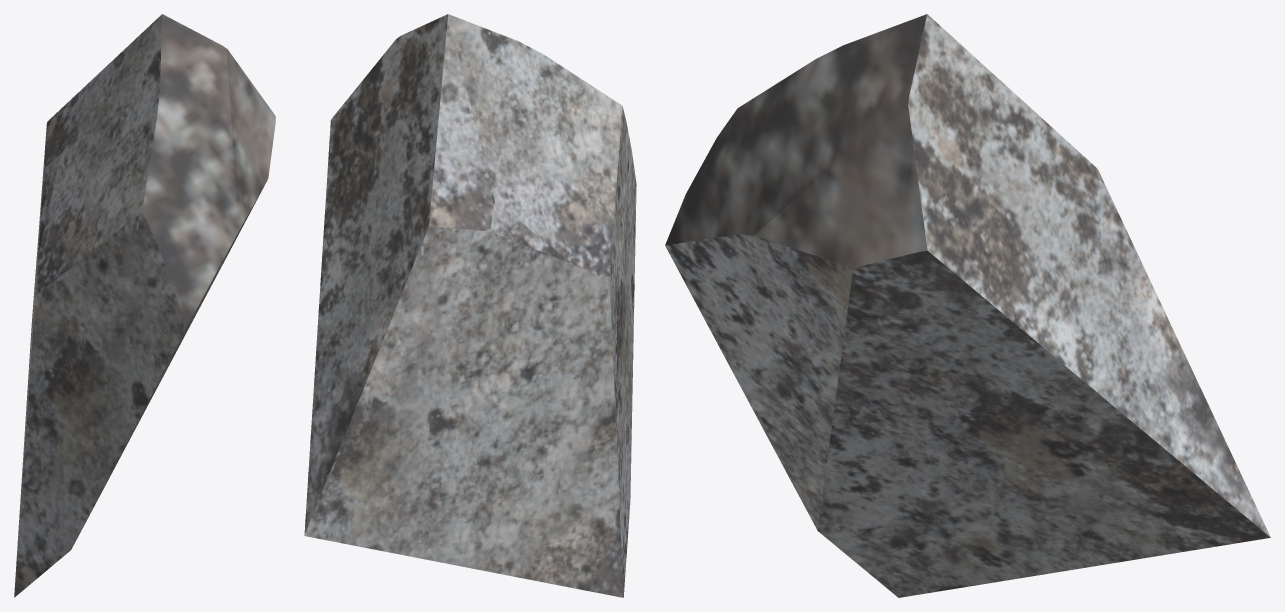
File: Asteroid_Medium_001_02_002_03_001.fbx
The picture shows the model from 3 angles, left to right: view 1: azimuth 30°, elevation 25°; view 2: azimuth 150°, elevation 25°; view 3: azimuth 270°, elevation 25°; orthographic projection. The views are drawn at different scales.
Visible parts, largest first — view 1: Asteroid_Medium_001_02_002_03_001; view 2: Asteroid_Medium_001_02_002_03_001; view 3: Asteroid_Medium_001_02_002_03_001.
Part boxes in pixels (x1,y1,x2,y2): Asteroid_Medium_001_02_002_03_001: [14, 14, 275, 597]; Asteroid_Medium_001_02_002_03_001: [304, 14, 636, 597]; Asteroid_Medium_001_02_002_03_001: [665, 14, 1270, 597].
Bounding box in the file's own units: 6.98 × 13.1 × 10.53.
